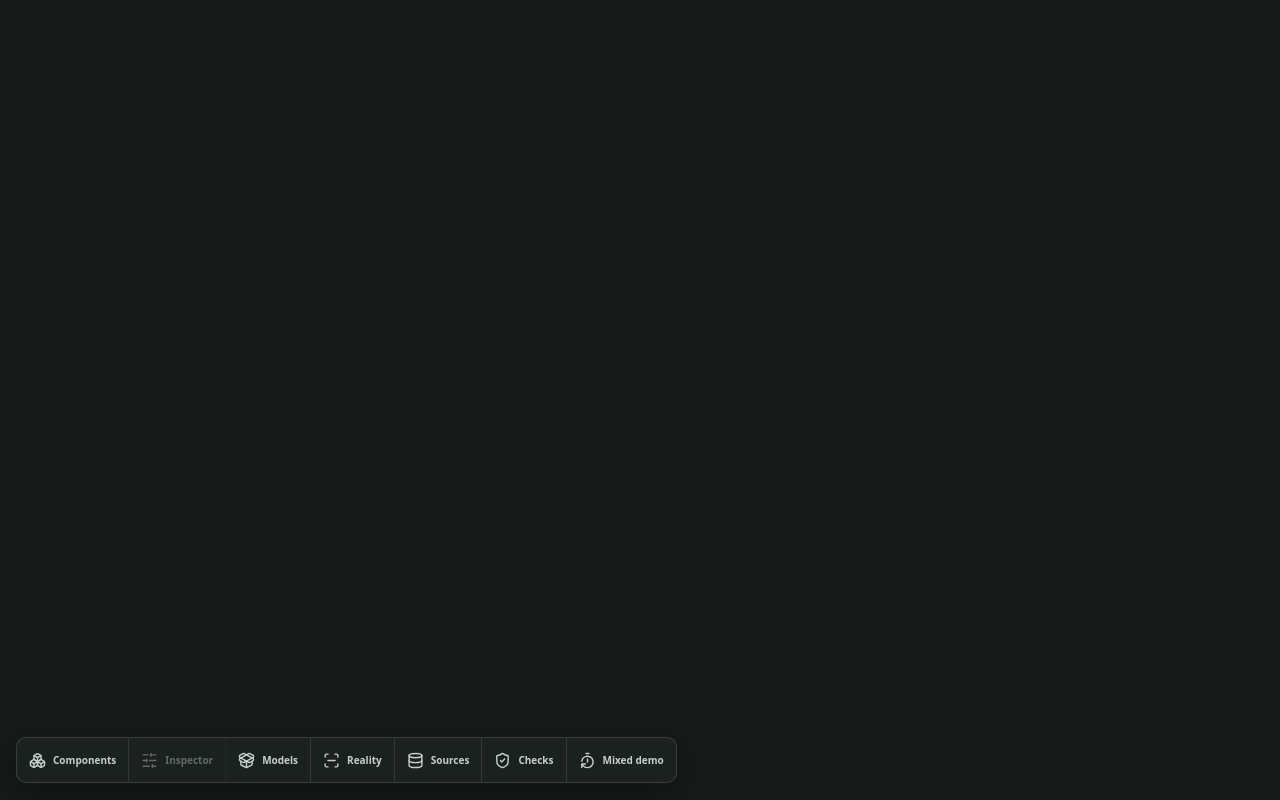
Test: human component creation › opens configure-on-create only after an asynchronous parent selection arrives
Click the button "Components": x=73, y=760 [17,738,129,782]
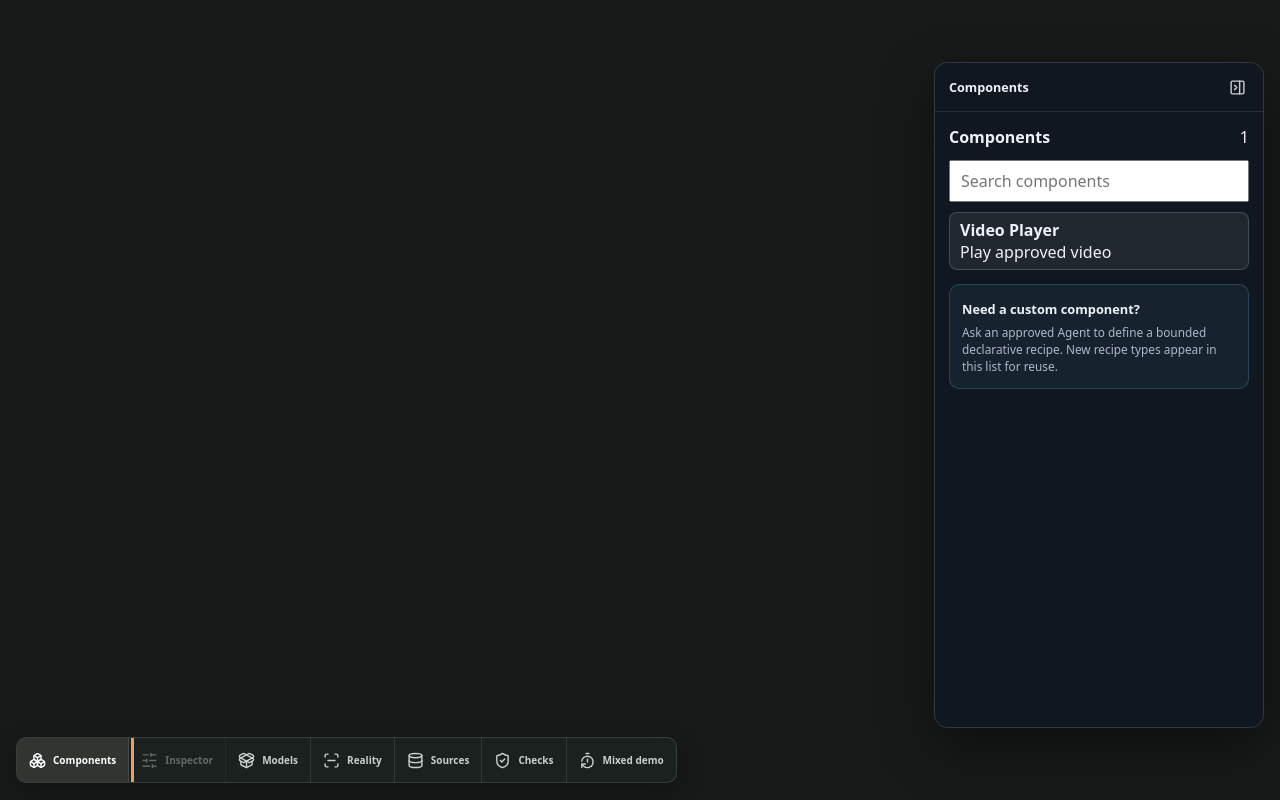
Click the button "Video Player Play approved video": x=1099, y=241 [949,212,1249,270]
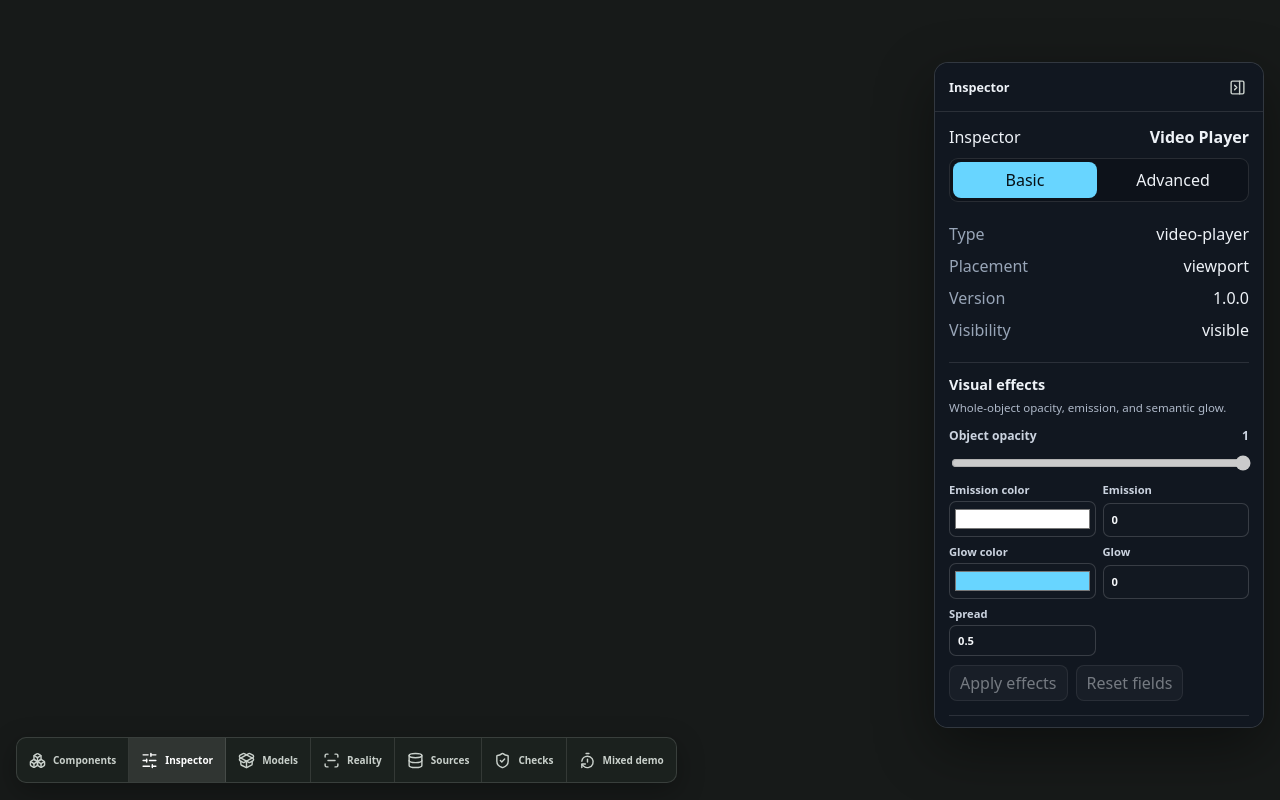
Now the element named "inspector panel" is shown, box [934,62,1264,728]
